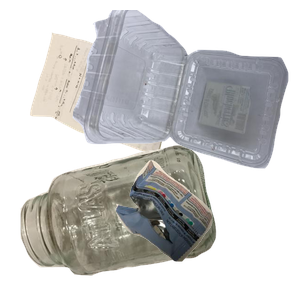glass: (18, 143, 227, 300)
paper: (27, 30, 203, 178)
plastic: (70, 10, 300, 171)
trash: (113, 157, 300, 300)
